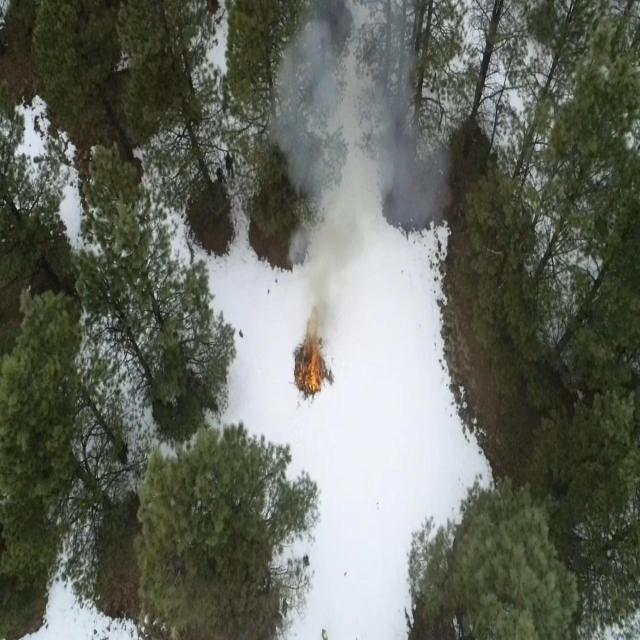Fire: (298, 347, 325, 395)
Smoke: (264, 13, 450, 331)
